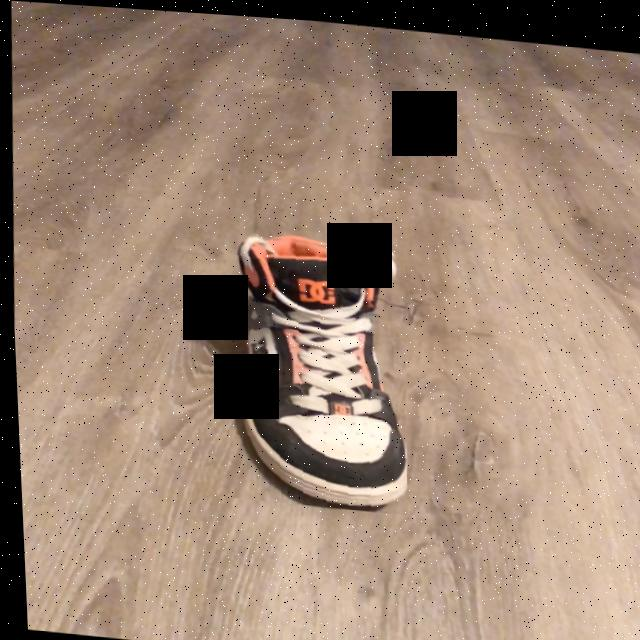shoe: (193, 234, 402, 506)
